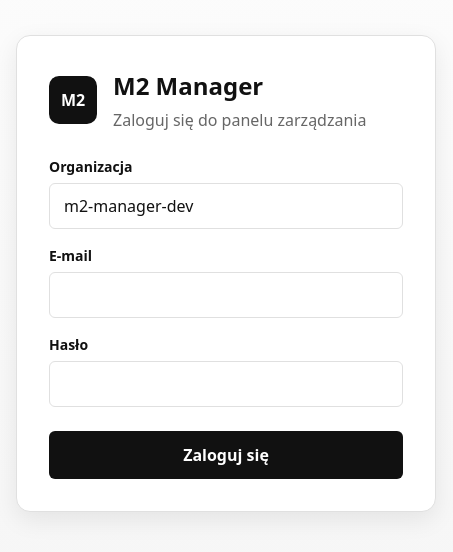
Scenario: LoginPage › shows friendly error for failed login
In the field labelled "E-mail": (226, 294) [49,272,403,318], type "user@example.com"
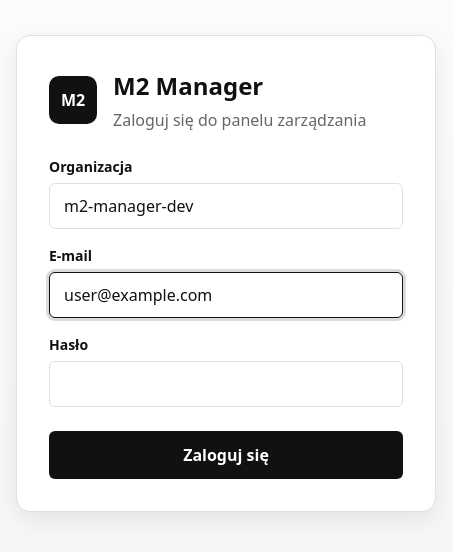
In the password field labelled "Hasło": (226, 384) [49,360,403,406], type "wrong"
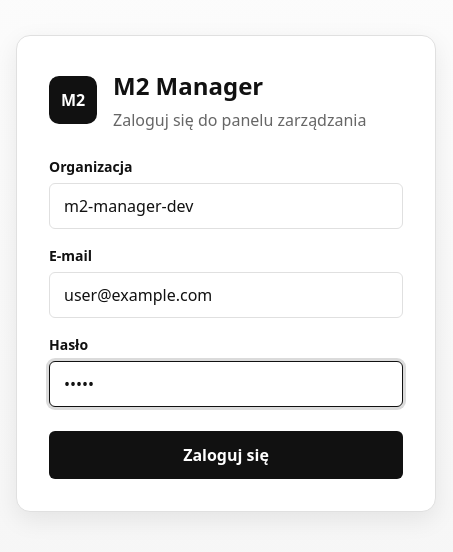
Click the button "Zaloguj się": (226, 454) [49,430,403,478]
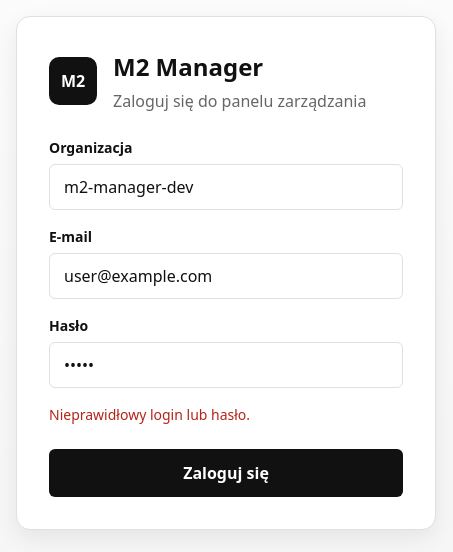
Check: the text "Nieprawidłowy login lub hasło." is shown, box [49,405,250,424]
